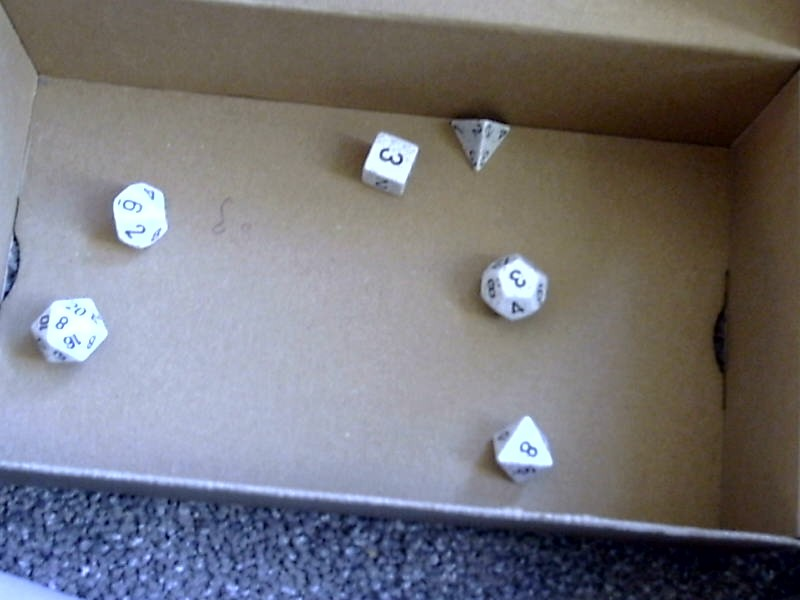d10 6: (101, 173, 170, 258)
d12 3: (475, 246, 554, 326)
d20 8: (24, 290, 114, 369)
d4 2: (445, 107, 513, 178)
d6 3: (356, 126, 424, 202)
d8 8: (478, 408, 576, 492)
